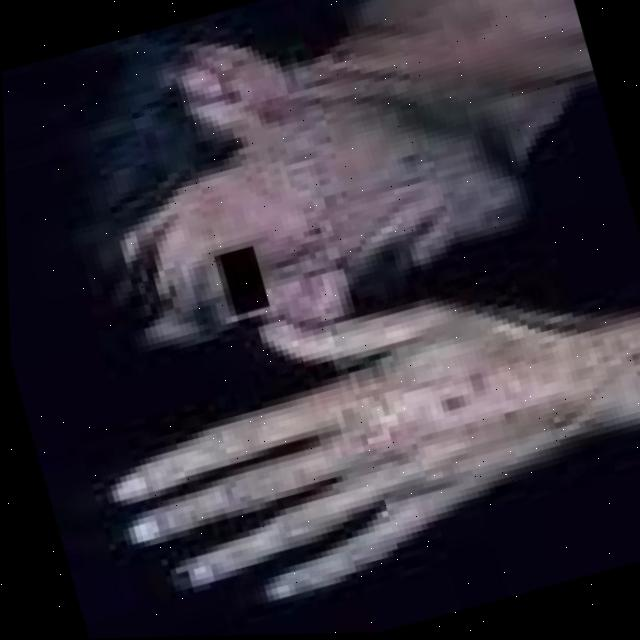Melasma: (330, 310, 634, 498)
